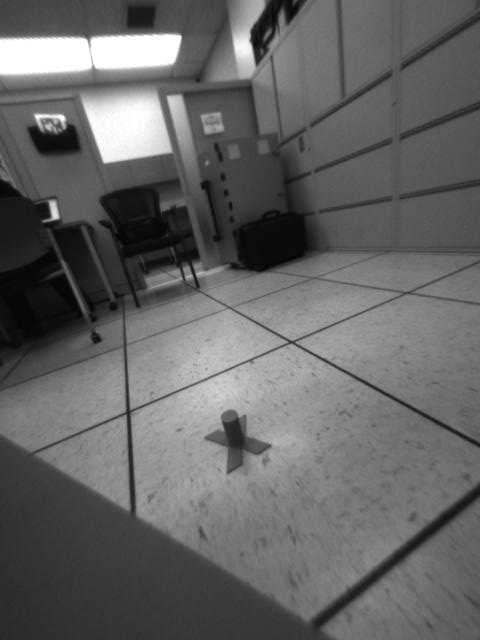X: (203, 408, 277, 475)
